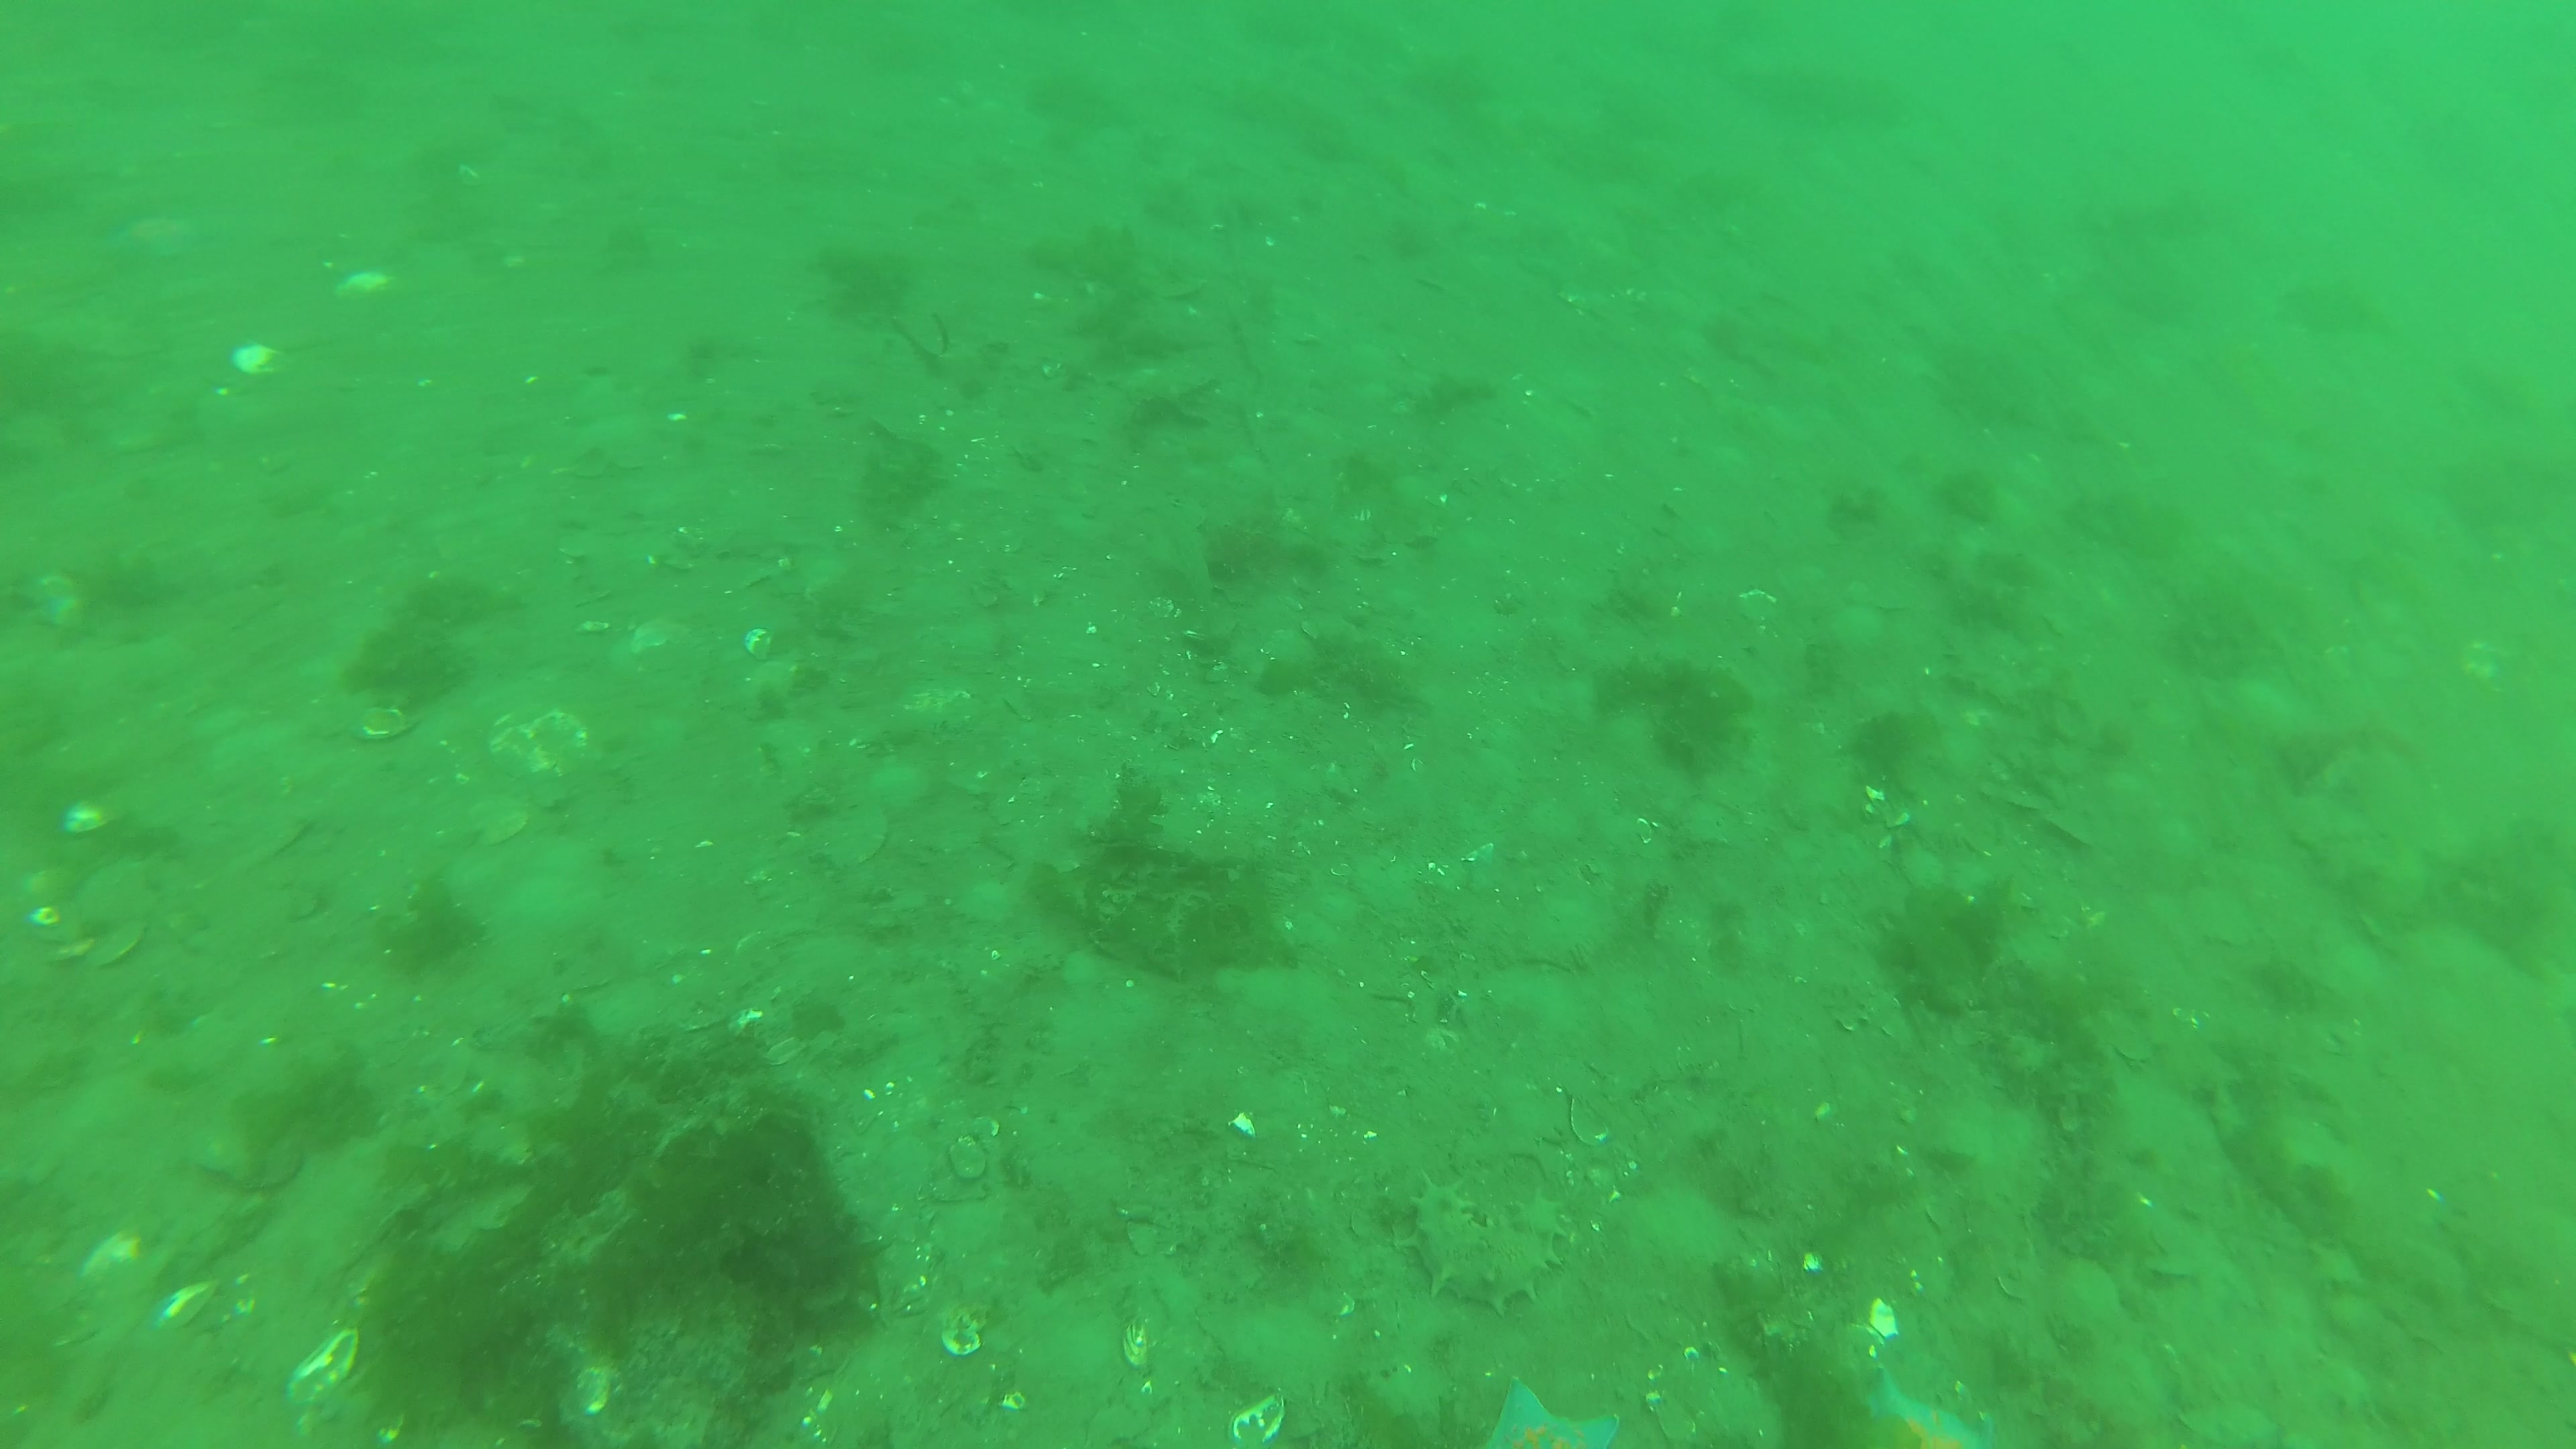holothurian: (1401, 1161, 1576, 1323)
starfish: (1463, 1369, 1624, 1449), (1858, 1357, 1994, 1449)
